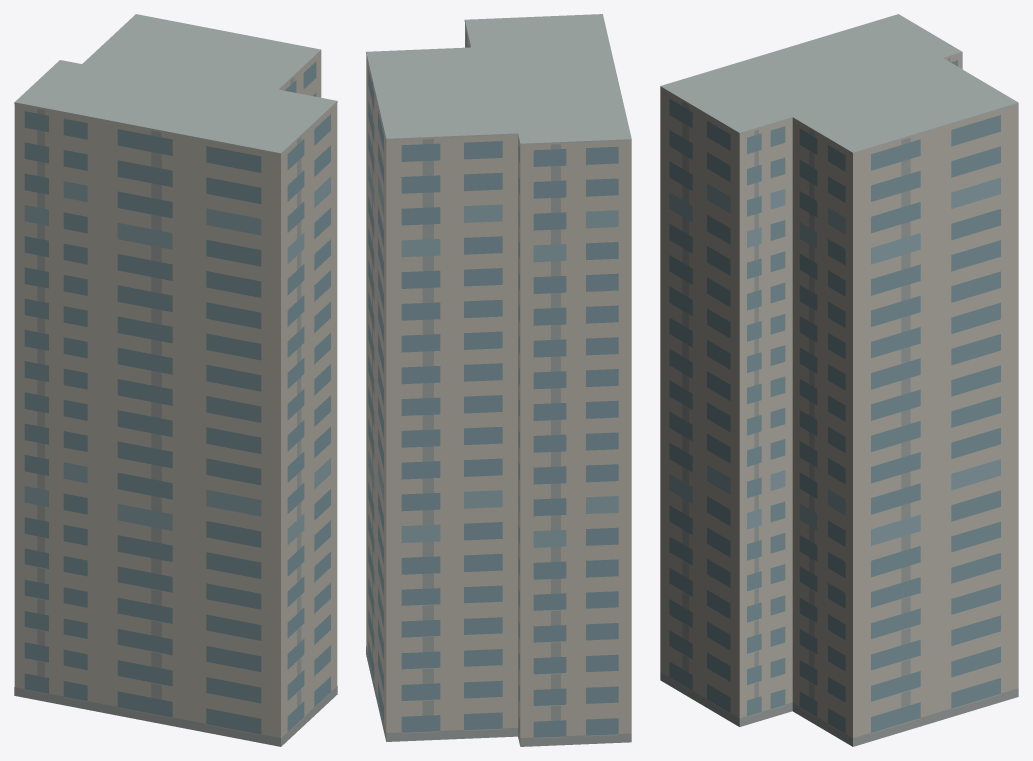
File: residential-a9d7d142-5777-4a68-88f3-4ba098846241.glb
The picture shows the model from 3 angles, left to right: view 1: azimuth 30°, elevation 25°; view 2: azimuth 150°, elevation 25°; view 3: azimuth 270°, elevation 25°; orthographic projection.
Parts seen in each view (by area): view 1: residential-a9d7d142-5777-4a68-88f3-4ba098846241.tmp; view 2: residential-a9d7d142-5777-4a68-88f3-4ba098846241.tmp; view 3: residential-a9d7d142-5777-4a68-88f3-4ba098846241.tmp.
Part boxes in pixels (bbox=[...]): residential-a9d7d142-5777-4a68-88f3-4ba098846241.tmp: bbox=[14, 14, 337, 746]; residential-a9d7d142-5777-4a68-88f3-4ba098846241.tmp: bbox=[366, 14, 631, 746]; residential-a9d7d142-5777-4a68-88f3-4ba098846241.tmp: bbox=[660, 14, 1018, 746].
Bounding box in the file's own units: 35.08 × 70 × 38.29.
